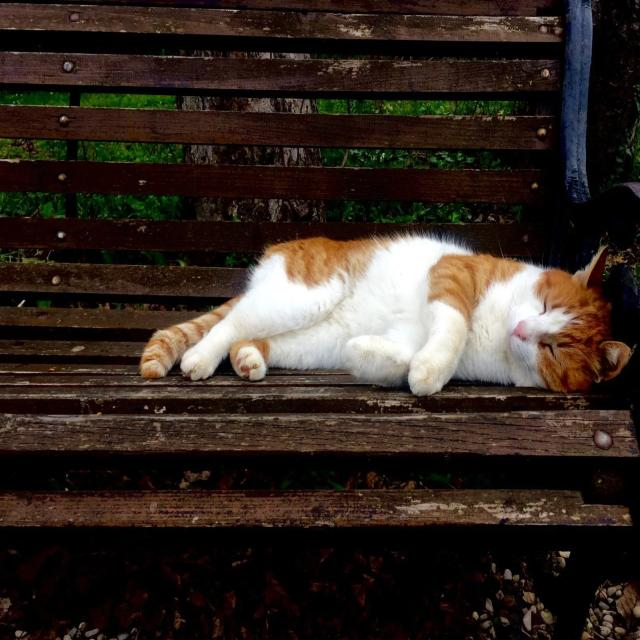cat: (140, 234, 630, 396)
